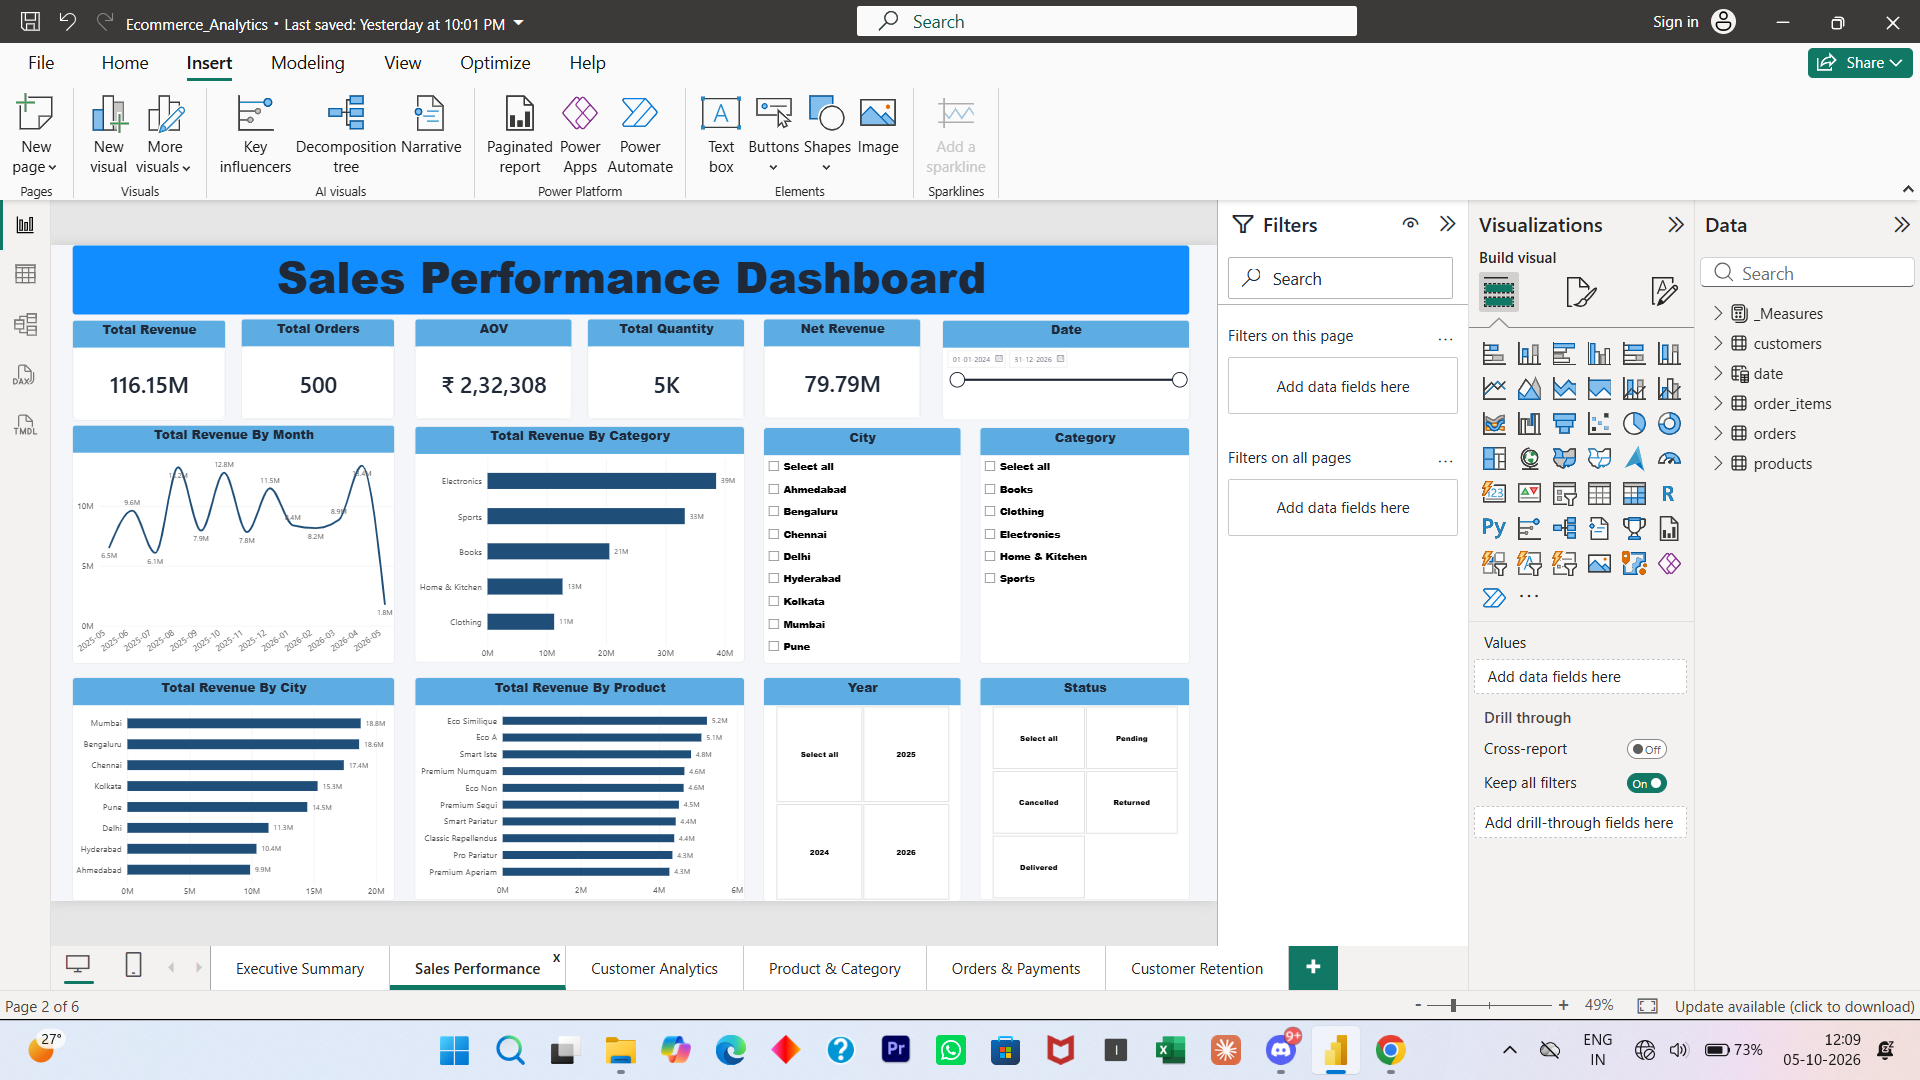

This screenshot's page, from the dashboard's own definition file:
{"tool":"powerbi","page":{"name":"Sales Performance","canvas":[1920,1080],"ordinal":1},"visuals":[{"type":"cardVisual","title":"Total Revenue","fields":{"Data":["_Measures.Total_Revenue"]},"box":[34,123.2,252.8,165.7],"z":0},{"type":"cardVisual","title":"Total Quantity","fields":{"Data":["_Measures.Total_Quantity"]},"box":[883,121.4,259.3,166.7],"z":1000},{"type":"cardVisual","title":"Total Orders","fields":{"Data":["_Measures.Total_Orders"]},"box":[312.9,121.4,253.2,166.7],"z":2000},{"type":"cardVisual","title":"Net Revenue","fields":{"Data":["_Measures.Net_Revenue"]},"box":[1173.2,121.4,259.3,164.7],"z":3000},{"type":"textbox","title":"Sales Performance Dashboard","box":[35,0,1840.1,115.3],"z":4000},{"type":"cardVisual","title":"AOV","fields":{"Data":["_Measures.AOV"]},"box":[599,121.4,259.3,166.7],"z":5000},{"type":"lineChart","title":"Total Revenue By Month","fields":{"Category":["date.Year-Month"],"Y":["_Measures.Total Revenue"]},"box":[34,297.4,531.1,393],"z":6000},{"type":"clusteredBarChart","title":"Total Revenue By Category","fields":{"Category":["products.category"],"Y":["_Measures.Total Revenue"]},"box":[599,298.5,543.4,389],"z":7000},{"type":"clusteredBarChart","title":"Total Revenue By City","fields":{"Category":["customers.city"],"Y":["_Measures.Total Revenue"]},"box":[34,711.7,531.1,367.5],"z":8000},{"type":"clusteredBarChart","title":"Total Revenue By Product","fields":{"Category":["products.product_name"],"Y":["_Measures.Total Revenue"]},"box":[599,712.2,543.4,366.4],"z":9000},{"type":"slicer","title":"Year","fields":{"Values":["date.Year"]},"box":[1173.2,712.2,325.2,368.4],"z":10000},{"type":"slicer","title":"Category","fields":{"Values":["products.category"]},"box":[1529.3,300.5,345.8,389],"z":11000},{"type":"slicer","title":"City","fields":{"Values":["customers.city"]},"box":[1173.2,300.5,325.2,389],"z":12000},{"type":"slicer","title":"Status","fields":{"Values":["orders.status"]},"box":[1529.3,712.2,345.8,366.4],"z":13000},{"type":"slicer","title":"Date","fields":{"Values":["date.Date"]},"box":[1467.6,123.5,407.5,164.7],"z":14000}]}

Visuals, with their boxes on the page's 1920x1080 design canvas (x1, y1, x2, y2). These are canvas units, not pixel positions in the 1920x1080 screenshot, which may show the page scaled, cropped or inside an application window:
"Total Revenue" cardVisual: 34 123 287 289
"Total Quantity" cardVisual: 883 121 1142 288
"Total Orders" cardVisual: 313 121 566 288
"Net Revenue" cardVisual: 1173 121 1432 286
"Sales Performance Dashboard" textbox: 35 0 1875 115
"AOV" cardVisual: 599 121 858 288
"Total Revenue By Month" lineChart: 34 297 565 690
"Total Revenue By Category" clusteredBarChart: 599 298 1142 688
"Total Revenue By City" clusteredBarChart: 34 712 565 1079
"Total Revenue By Product" clusteredBarChart: 599 712 1142 1079
"Year" slicer: 1173 712 1498 1081
"Category" slicer: 1529 300 1875 690
"City" slicer: 1173 300 1498 690
"Status" slicer: 1529 712 1875 1079
"Date" slicer: 1468 124 1875 288
